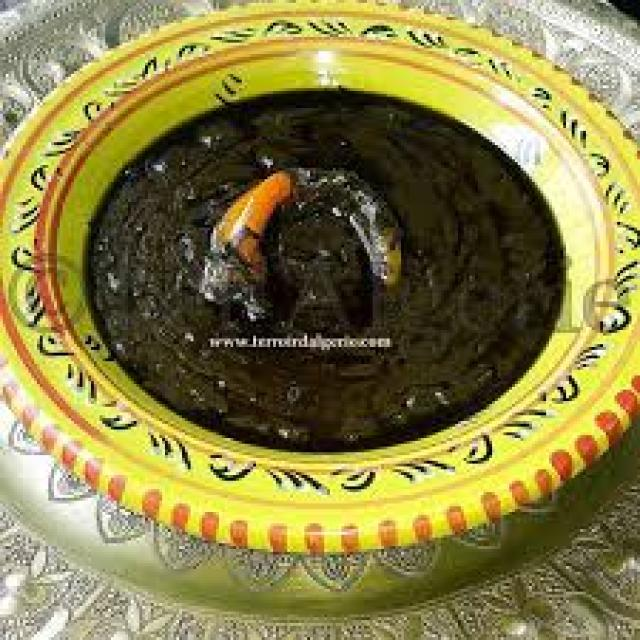Melloukhia: (88, 86, 587, 451)
